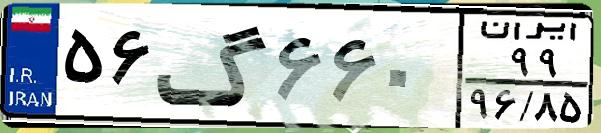0: (385, 28, 445, 110)
5: (57, 26, 110, 100), (560, 70, 590, 125)
6: (270, 28, 330, 110), (330, 28, 385, 110), (110, 28, 156, 98), (495, 70, 520, 125)
8: (535, 70, 560, 125)
9: (537, 27, 568, 80), (508, 27, 537, 80), (470, 70, 495, 125)
گ: (156, 12, 270, 120)
